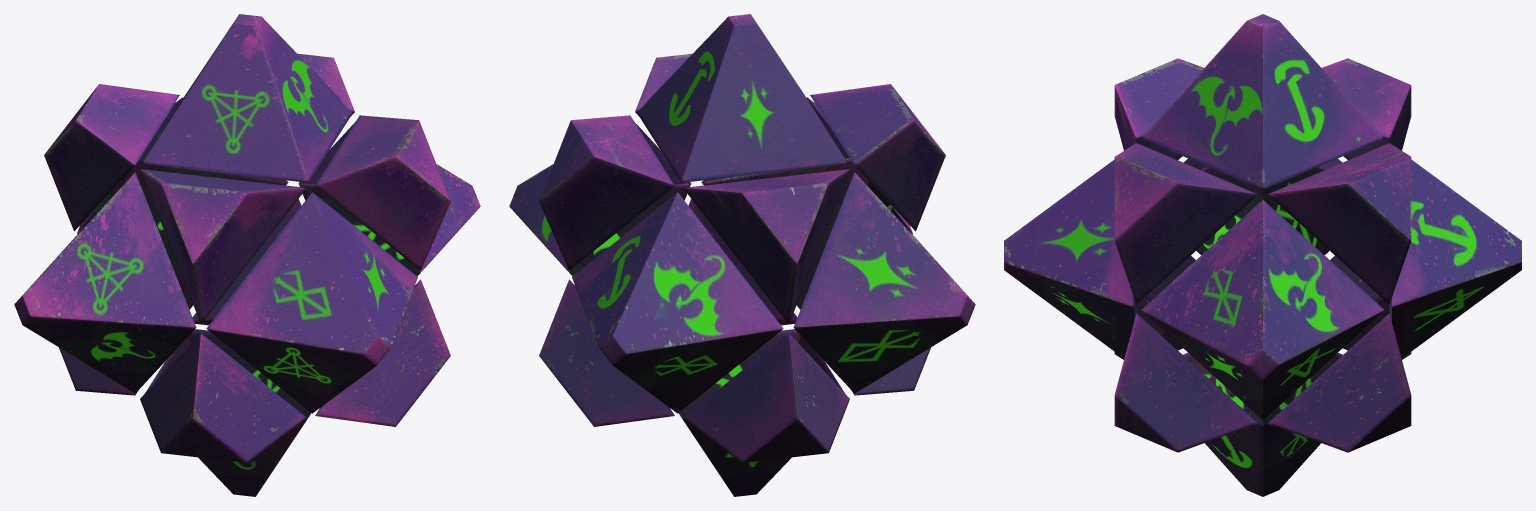
Rendered from Personaje.fbx.
The picture shows the model from 3 angles, left to right: view 1: azimuth 30°, elevation 25°; view 2: azimuth 150°, elevation 25°; view 3: azimuth 270°, elevation 25°; orthographic projection.
Parts seen in each view (by area): view 1: CHARACTER_LOW; view 2: CHARACTER_LOW; view 3: CHARACTER_LOW.
Part boxes in pixels (x1,y1,x2,y2): CHARACTER_LOW: [14, 14, 480, 496]; CHARACTER_LOW: [509, 14, 975, 496]; CHARACTER_LOW: [1004, 14, 1521, 496].
Bounding box in the file's own units: 95.24 × 95.24 × 95.24.
Materials: 1 (1 with a texture image).
